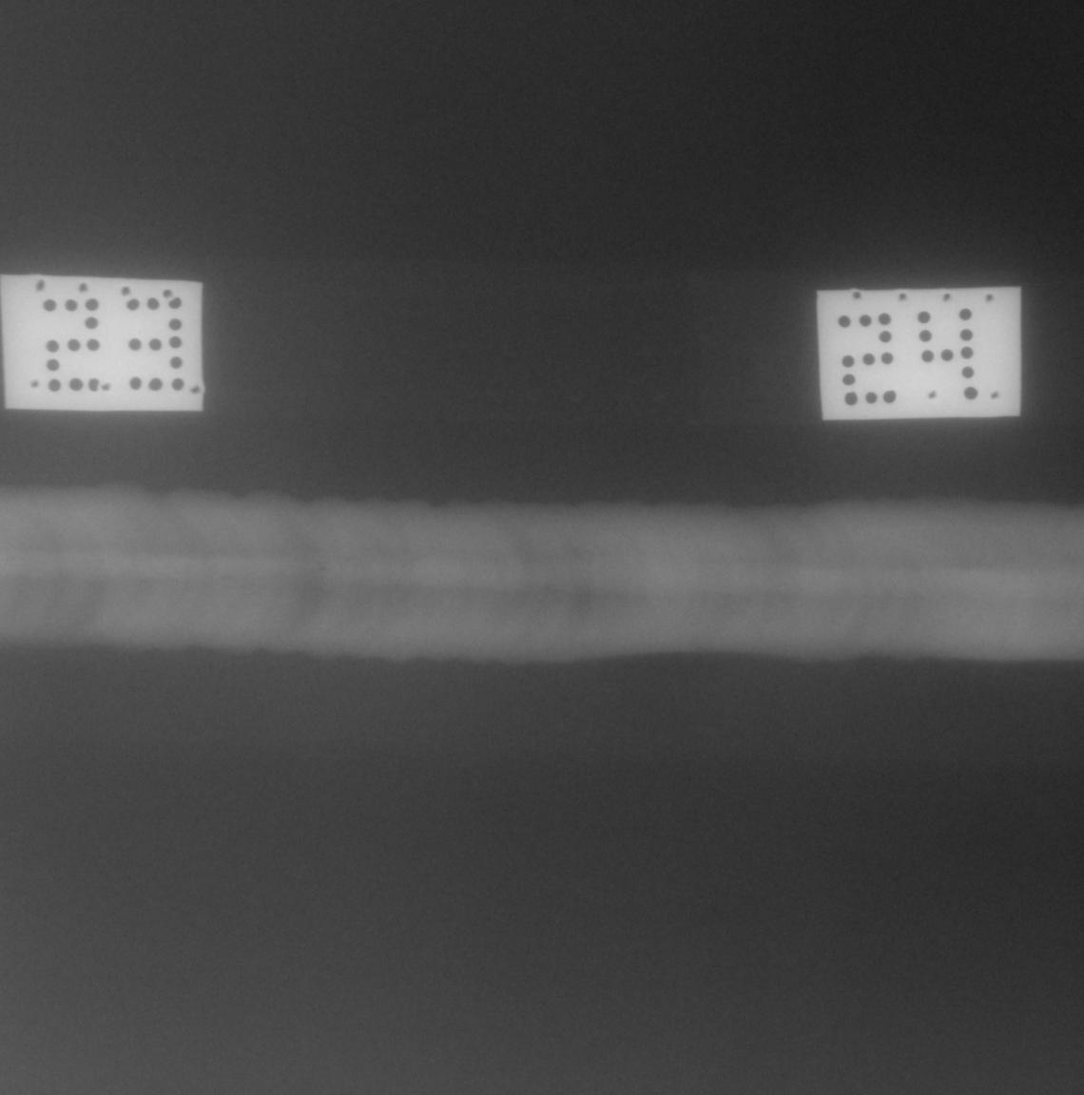Inclusion: (217, 575, 233, 581)
Pore/Porosity: (544, 583, 550, 590), (320, 566, 325, 570)
